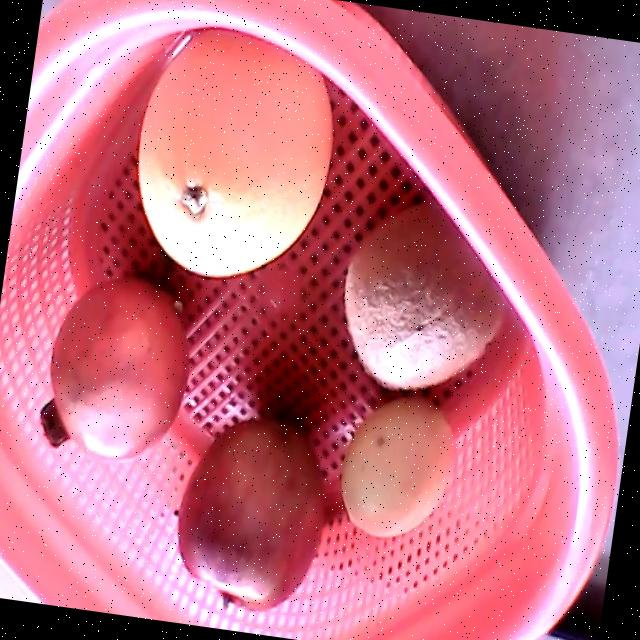apple: (176, 417, 325, 610)
kiwi: (343, 203, 509, 391)
lemon: (340, 397, 455, 537)
orange: (136, 26, 332, 276)
pomegranate: (38, 275, 190, 459)
